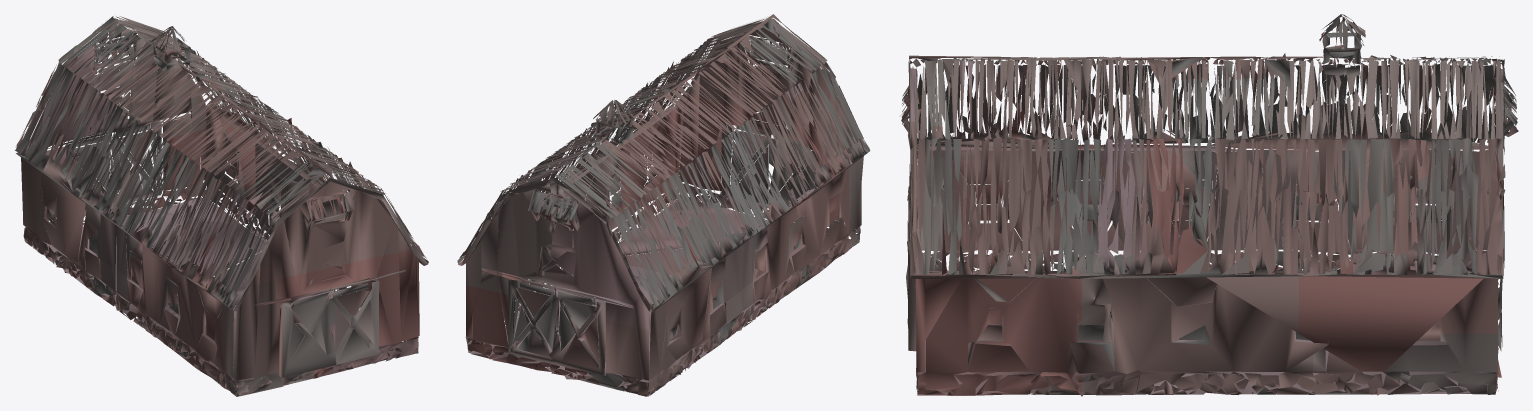
File: gbarn.glb
3 renders of one model, left to right at view 1: azimuth 30°, elevation 25°; view 2: azimuth 150°, elevation 25°; view 3: azimuth 270°, elevation 25°, orthographic. The views are drawn at different scales.
Parts seen in each view (by area): view 1: LO.001; view 2: LO.001; view 3: LO.001.
Part boxes in pixels (left/top/right/bottom): LO.001: left=15, top=16, right=428, bottom=396; LO.001: left=457, top=14, right=870, bottom=396; LO.001: left=899, top=14, right=1518, bottom=396.
Size of the model in its own units: 10.28 by 11.56 by 20.13.
1 material, 1 textured.
